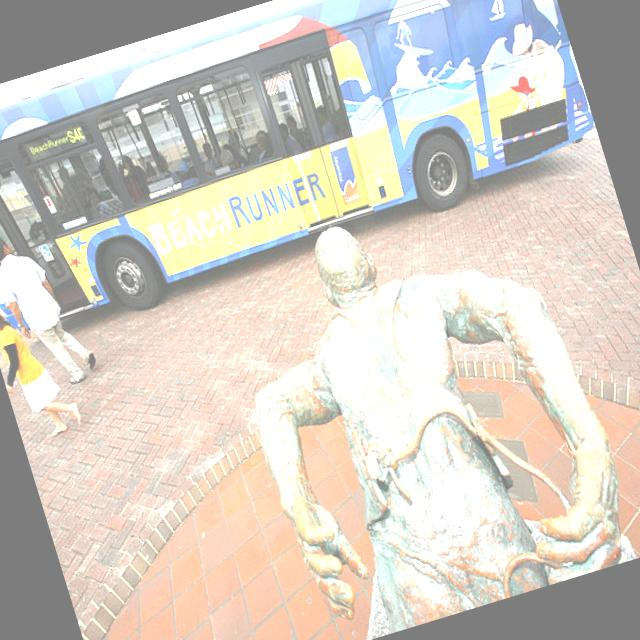Vehicle: (0, 0, 607, 351)
